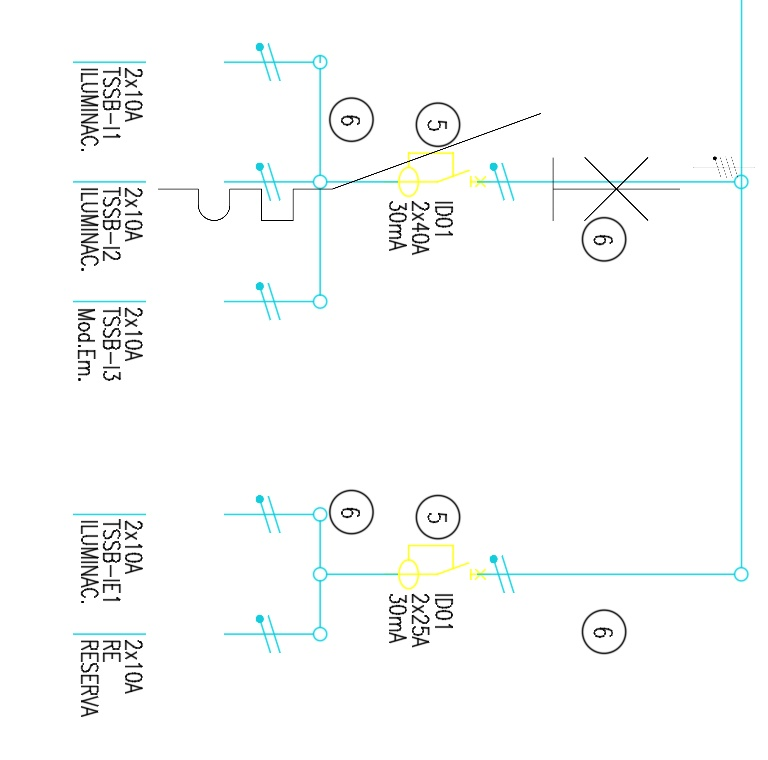interruptor_termomagnetico: (145, 100, 693, 234)
